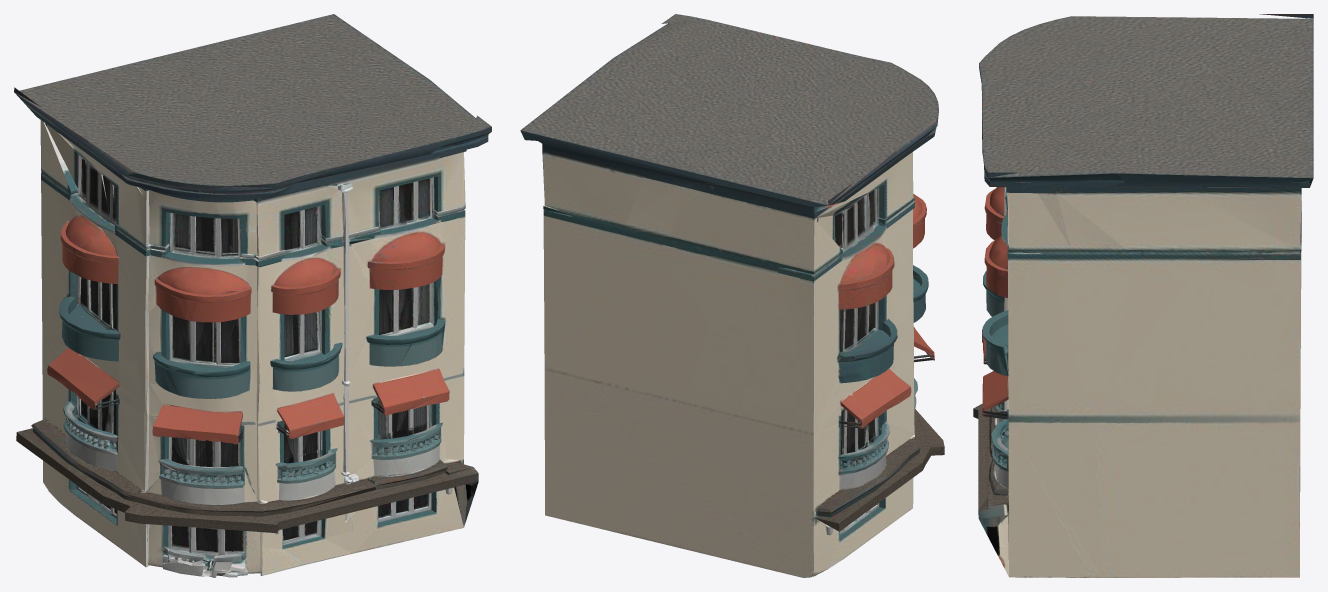
Rendered from building.glb.
The picture shows the model from 3 angles, left to right: view 1: azimuth 30°, elevation 25°; view 2: azimuth 150°, elevation 25°; view 3: azimuth 270°, elevation 25°; orthographic projection. The views are drawn at different scales.
Parts seen in each view (by area): view 1: output_unwrapped; view 2: output_unwrapped; view 3: output_unwrapped.
Boxes of the visible parts, x1,y1,x2,y2 form: output_unwrapped: (14,14,491,577); output_unwrapped: (520,14,944,577); output_unwrapped: (973,14,1313,577).
Size of the model in its own units: 1.6 by 1.9 by 1.42.
Materials: 1 (1 with a texture image).
